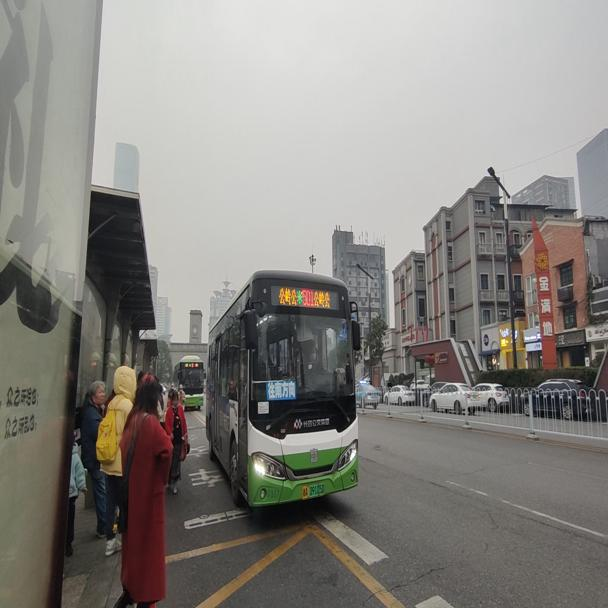bus: (205, 270, 365, 510), (175, 355, 205, 405)
screen: (301, 288, 313, 308)
